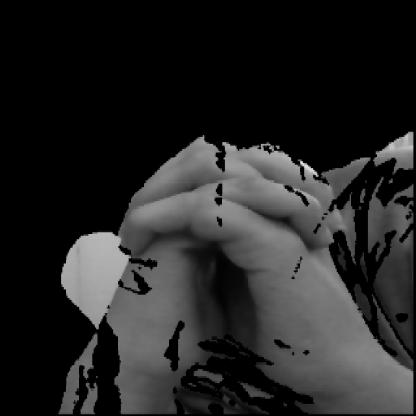prayer: (50, 130, 366, 392)
